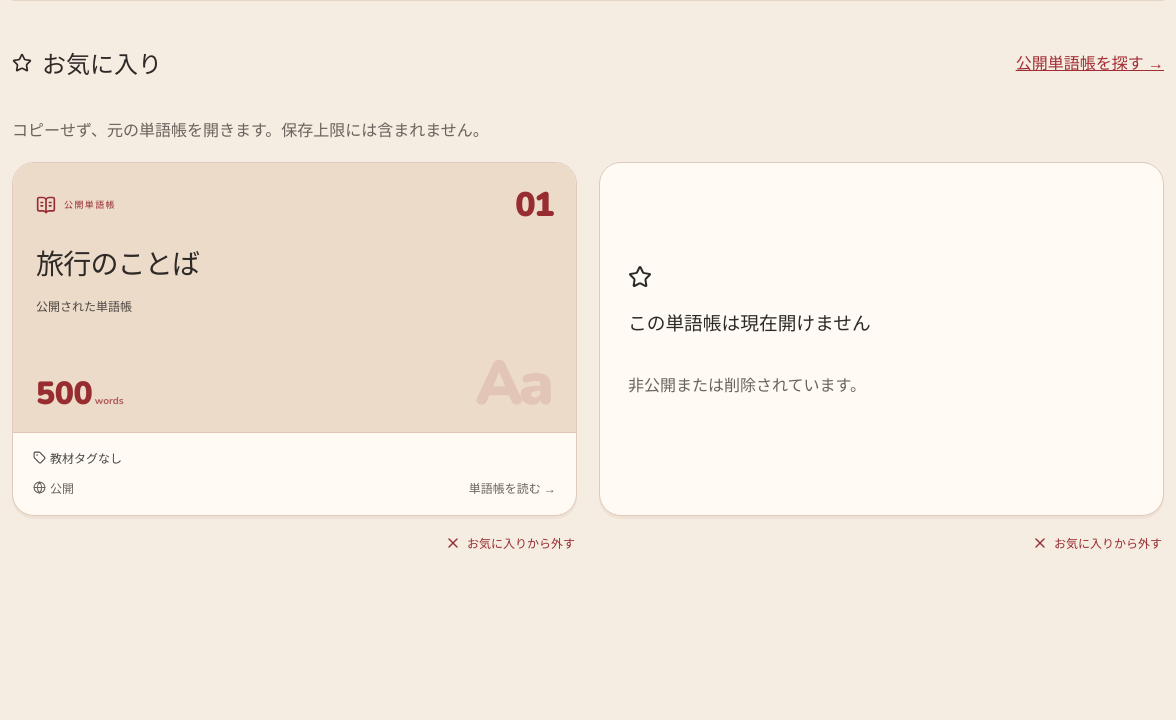
Test: links to the original, and lets an unavailable shortcut be removed
The image size is (1176, 720).
Expected: the link to "/shared/original" is shown, top-left (12, 162), bottom-right (577, 516)
Click the button with aria-label "開けない単語帳をお気に入りから外す": (1097, 543) top-left (1030, 528), bottom-right (1164, 558)
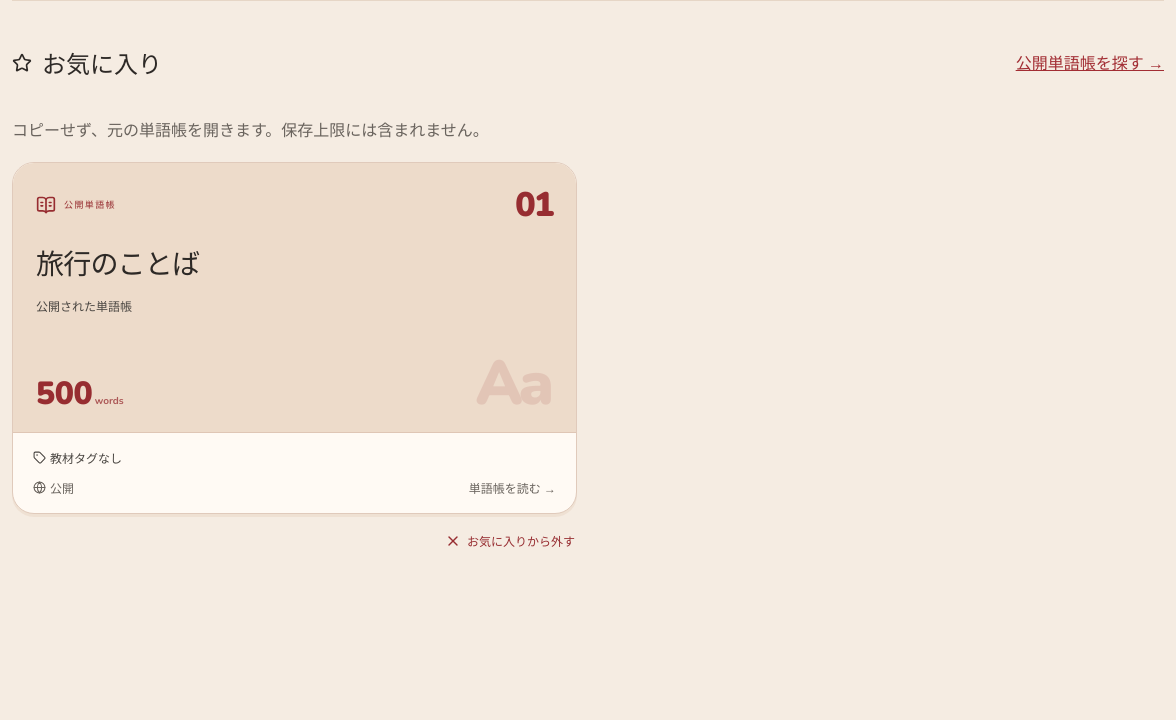
Result: the text "現在開けません" is gone
